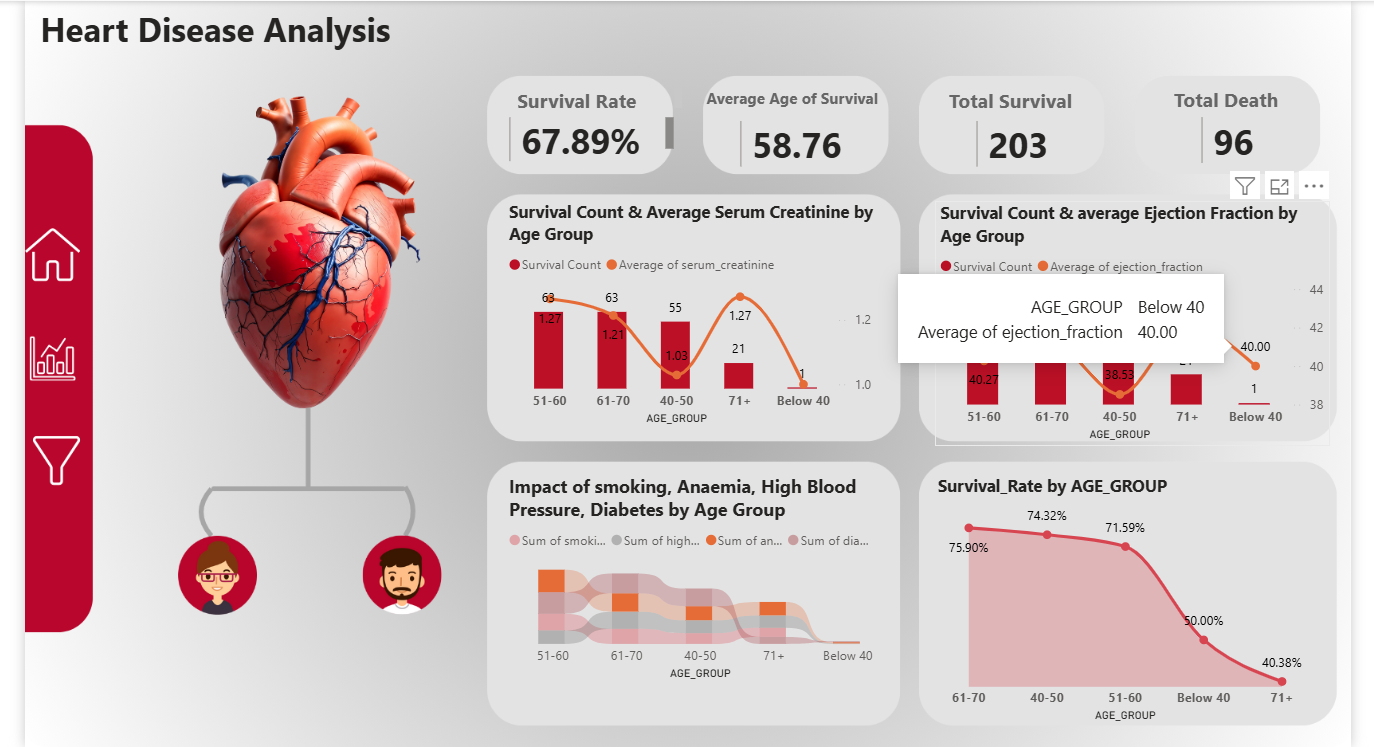

The dashboard page shown, as its layout file describes it:
{"tool":"powerbi","page":{"name":"Page 1","canvas":[1280,720],"ordinal":0},"visuals":[{"type":"textbox","box":[9.6,0,367.8,71.4],"z":0},{"type":"multiRowCard","fields":{"Values":["heart_Disease.Survival_Rate"]},"box":[462.1,107.4,168.9,51.9],"z":1},{"type":"multiRowCard","fields":{"Values":["heart_Disease.Average_Age_Survival"]},"box":[685.3,111,201.5,84.5],"z":2},{"type":"multiRowCard","fields":{"Values":["heart_Disease.Total_Surviour"]},"box":[913.3,111,149.6,76],"z":3},{"type":"multiRowCard","fields":{"Values":["heart_Disease.Total_Death"]},"box":[1130.4,107.4,149.6,66.4],"z":4},{"type":"textbox","box":[470.5,78.4,168.9,32.6],"z":5},{"type":"textbox","box":[652.7,78.4,202.7,35],"z":6},{"type":"textbox","box":[886.7,78.4,132.7,36.2],"z":7},{"type":"textbox","box":[1103.9,77.2,118.2,36.2],"z":8},{"type":"lineClusteredColumnComboChart","title":"Survival Count & Average Serum Creatinine by Age Group","fields":{"Category":["heart_Disease.AGE_GROUP"],"Y":["CountNonNull(heart_Disease.DEATH_EVENT)"],"Y2":["Avg(heart_Disease.serum_creatinine)"]},"box":[462.4,192.1,362.3,222.3],"z":9},{"type":"lineClusteredColumnComboChart","title":"Survival Count & average Ejection Fraction by Age Group","fields":{"Category":["heart_Disease.AGE_GROUP"],"Y":["CountNonNull(heart_Disease.DEATH_EVENT)"],"Y2":["Avg(heart_Disease.ejection_fraction)"]},"box":[878.3,193,381.2,236.5],"z":10},{"type":"lineChart","fields":{"Category":["heart_Disease.AGE_GROUP"],"Y":["heart_Disease.Survival_Rate"]},"box":[875.9,456,372.8,244.9],"z":11},{"type":"ribbonChart","title":"Impact of smoking, Anaemia, High Blood Pressure, Diabetes by Age Group","fields":{"Category":["heart_Disease.AGE_GROUP"],"Y":["Sum(heart_Disease.smoking)","Sum(heart_Disease.high_blood_pressure)","Sum(heart_Disease.anaemia)","Sum(heart_Disease.diabetes)"]},"box":[462.4,455.6,380.1,204.5],"z":12}]}

Visuals, with their boxes on the page's 1280x720 design canvas (x1, y1, x2, y2). These are canvas units, not pixel positions in the 1374x747 screenshot, which may show the page scaled, cropped or inside an application window:
textbox: l=10, t=0, r=377, b=71
multiRowCard - heart_Disease.Survival_Rate: l=462, t=107, r=631, b=159
multiRowCard - heart_Disease.Average_Age_Survival: l=685, t=111, r=887, b=196
multiRowCard - heart_Disease.Total_Surviour: l=913, t=111, r=1063, b=187
multiRowCard - heart_Disease.Total_Death: l=1130, t=107, r=1280, b=174
textbox: l=470, t=78, r=639, b=111
textbox: l=653, t=78, r=855, b=113
textbox: l=887, t=78, r=1019, b=115
textbox: l=1104, t=77, r=1222, b=113
"Survival Count & Average Serum Creatinine by Age Group" lineClusteredColumnComboChart: l=462, t=192, r=825, b=414
"Survival Count & average Ejection Fraction by Age Group" lineClusteredColumnComboChart: l=878, t=193, r=1260, b=430
lineChart - heart_Disease.AGE_GROUP x heart_Disease.Survival_Rate: l=876, t=456, r=1249, b=701
"Impact of smoking, Anaemia, High Blood Pressure, Diabetes by Age Group" ribbonChart: l=462, t=456, r=842, b=660
